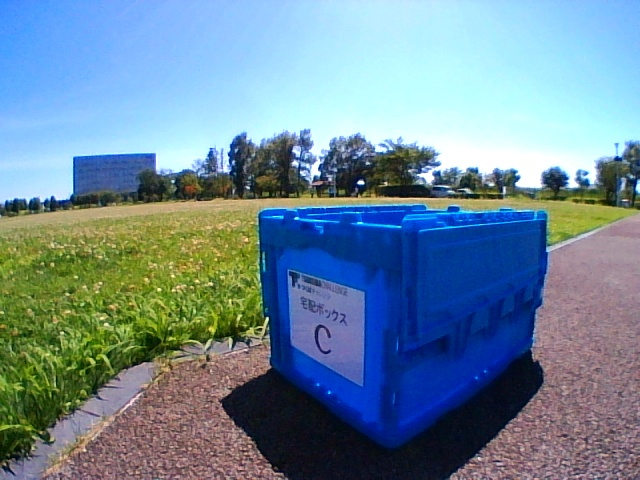blue_box: (259, 204, 549, 446)
tag_c: (299, 296, 342, 355)
